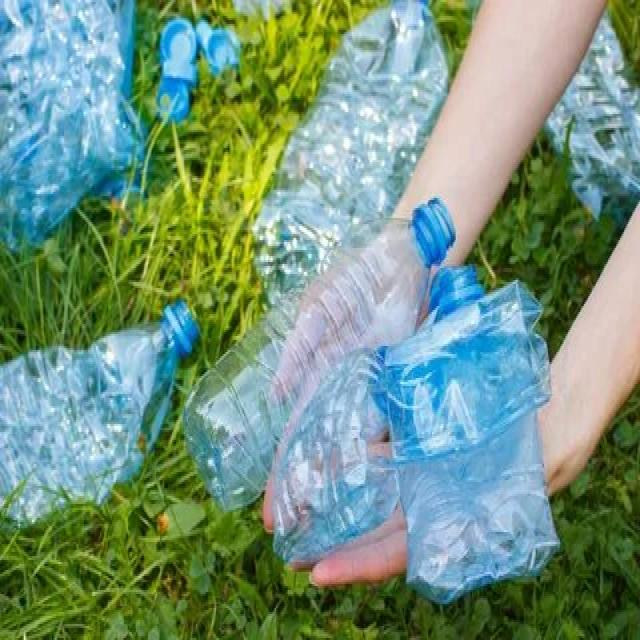blue: (179, 198, 458, 514), (387, 267, 560, 608), (0, 298, 199, 528), (270, 345, 396, 558)
